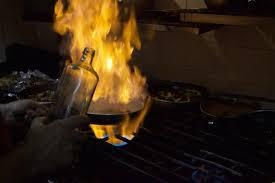fire: (52, 0, 151, 104)
